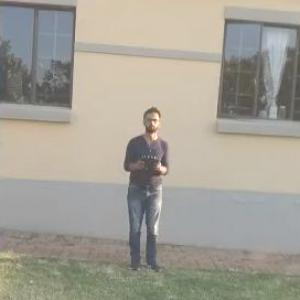follow: (116, 103, 172, 274)
